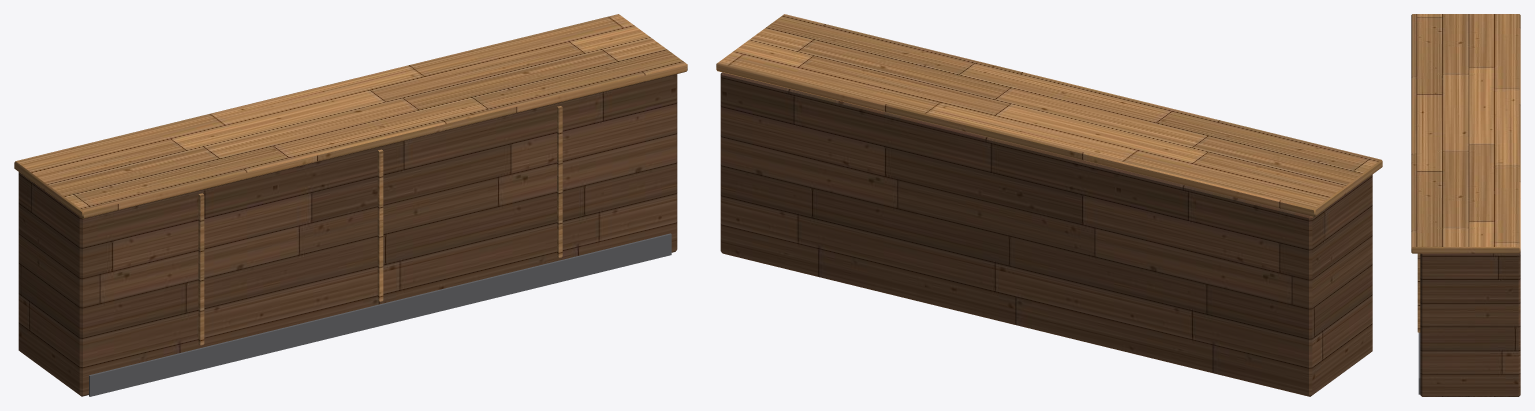
The model's file is counter.glb.
The picture shows the model from 3 angles, left to right: view 1: azimuth 30°, elevation 25°; view 2: azimuth 150°, elevation 25°; view 3: azimuth 270°, elevation 25°; orthographic projection. The views are drawn at different scales.
Visible parts, largest first — view 1: counter_dkwood, counter_wood, counter_dark; view 2: counter_dkwood, counter_wood; view 3: counter_wood, counter_dkwood, counter_dark.
Boxes of the visible parts, left/top/right/bottom form: counter_dkwood: left=18, top=74, right=677, bottom=396; counter_wood: left=14, top=14, right=687, bottom=345; counter_dark: left=89, top=233, right=671, bottom=396; counter_dkwood: left=720, top=72, right=1372, bottom=396; counter_wood: left=716, top=14, right=1382, bottom=216; counter_wood: left=1411, top=14, right=1520, bottom=332; counter_dkwood: left=1420, top=253, right=1520, bottom=396; counter_dark: left=1418, top=332, right=1420, bottom=394.
Bounding box in the file's own units: 3.04 × 0.92 × 0.6.
3 materials, 2 textured.
